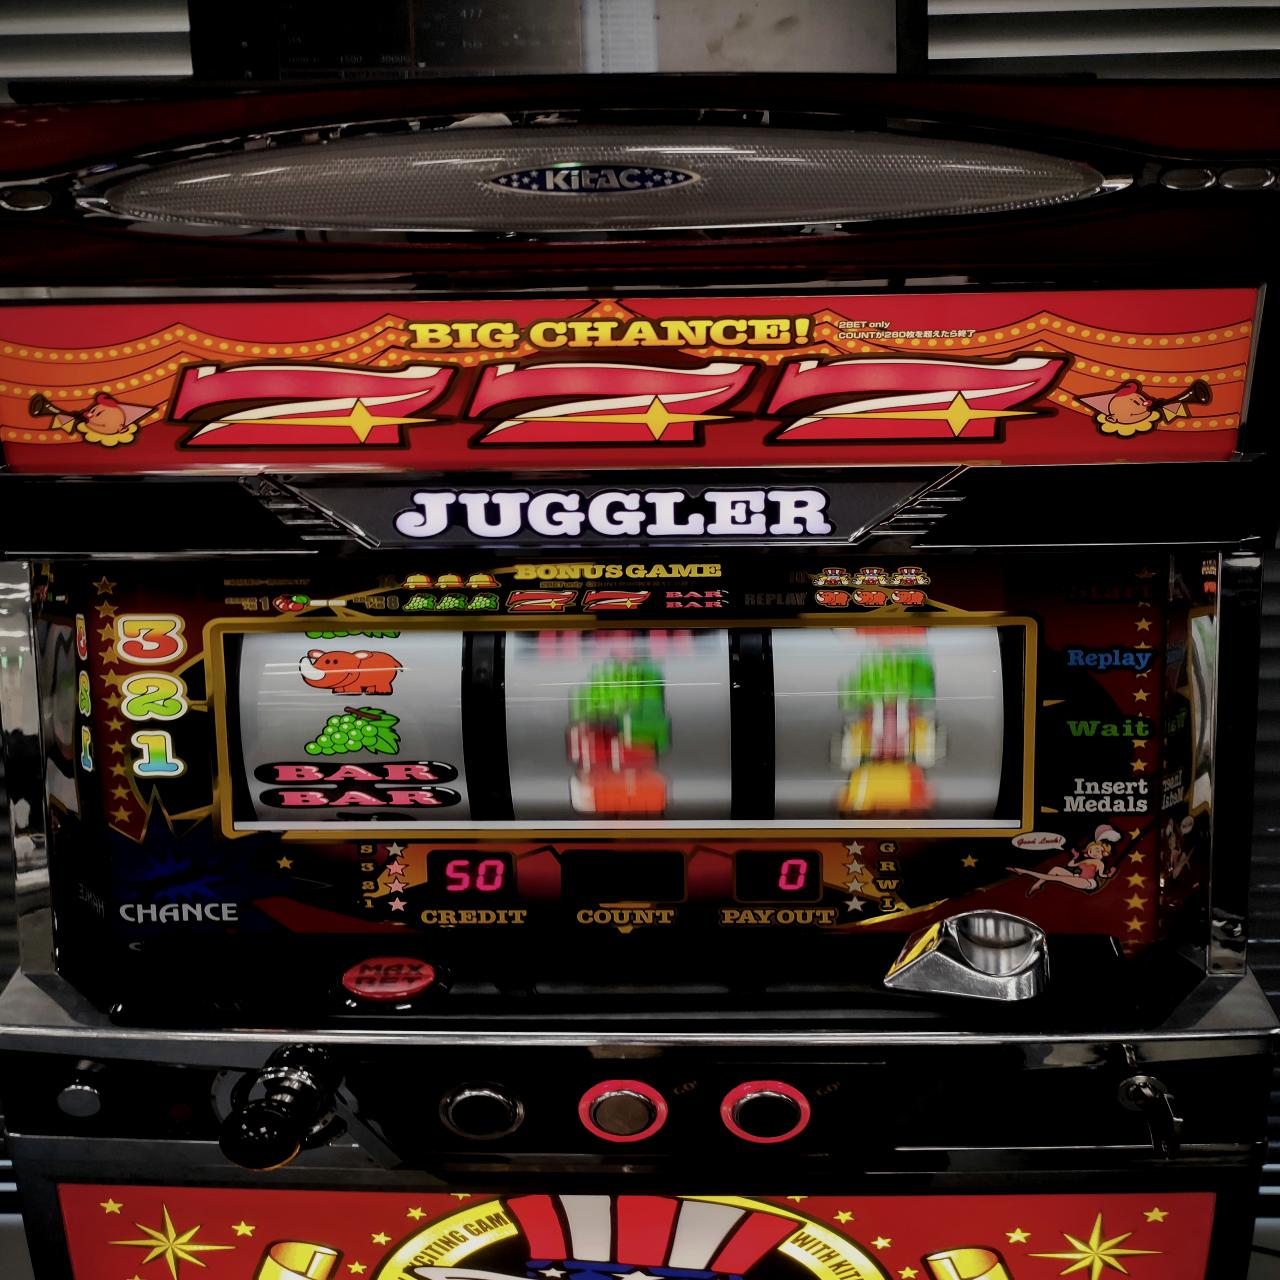8: (291, 647, 407, 699)
bar: (252, 760, 464, 810)
grape: (302, 703, 403, 756)
rhino: (210, 619, 1030, 830)
